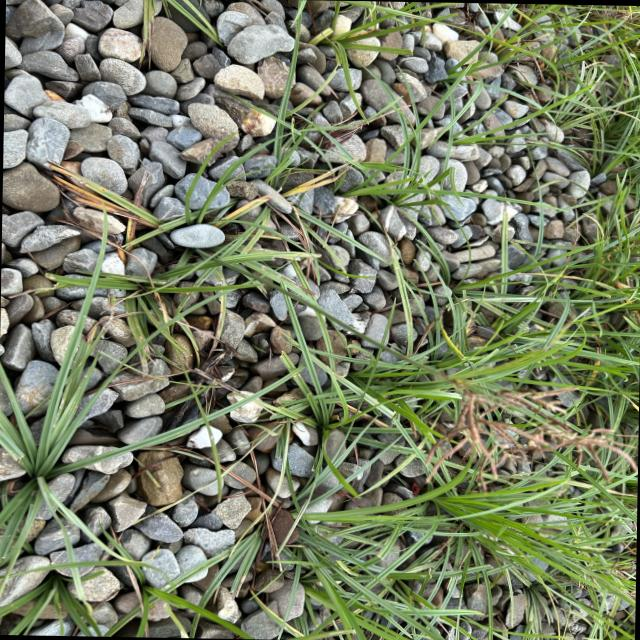cyperus: (458, 358, 639, 494)
